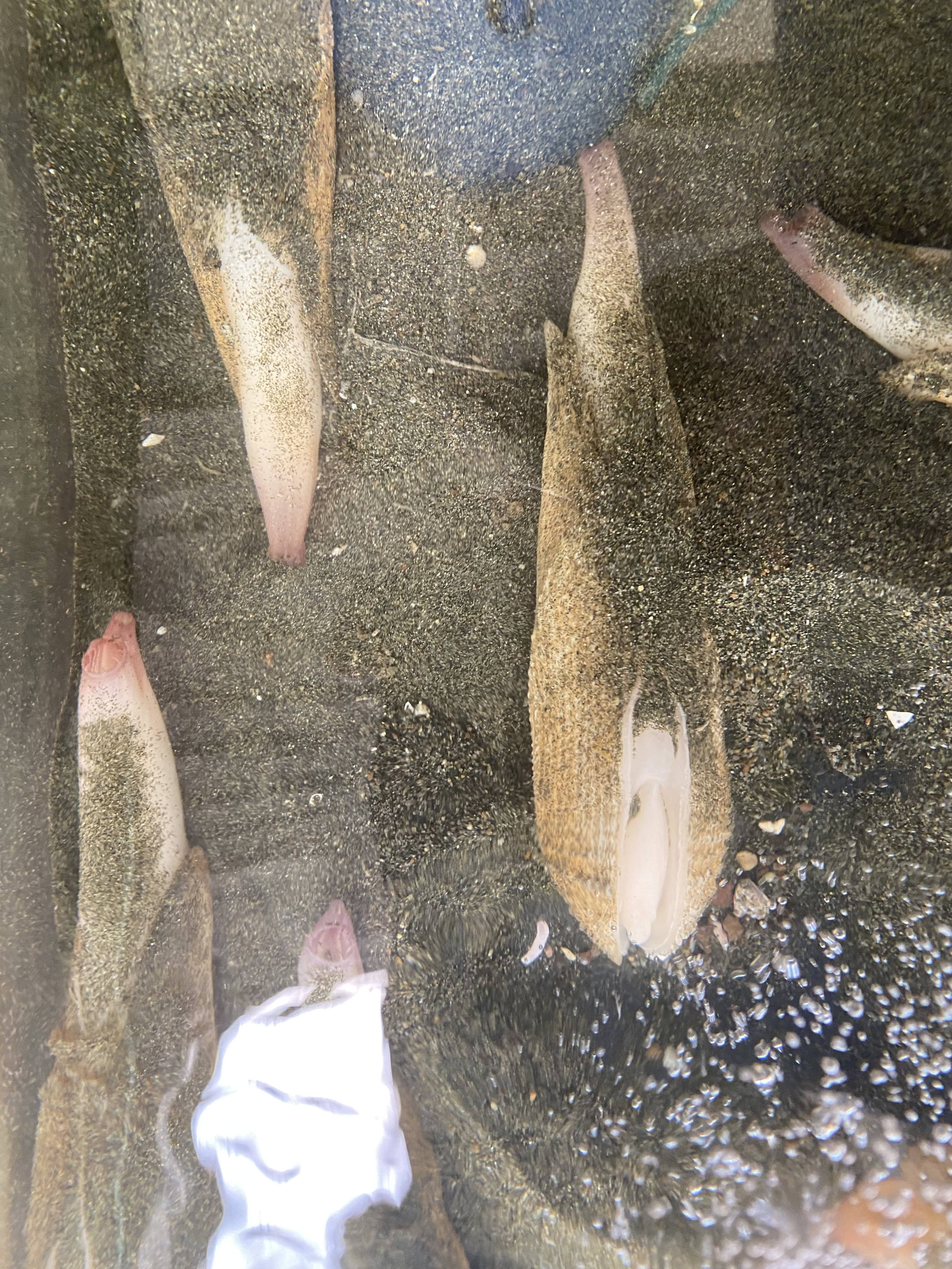Healthy: (528, 140, 730, 963), (110, 0, 337, 565), (27, 612, 218, 1269), (760, 205, 952, 403)
